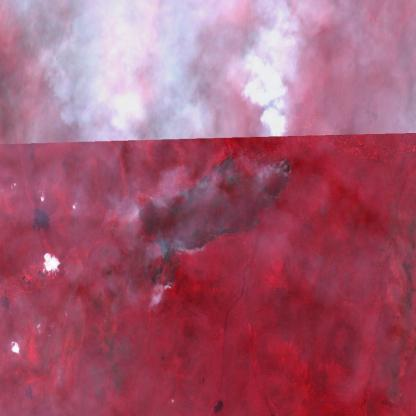fire: (132, 151, 293, 293)
